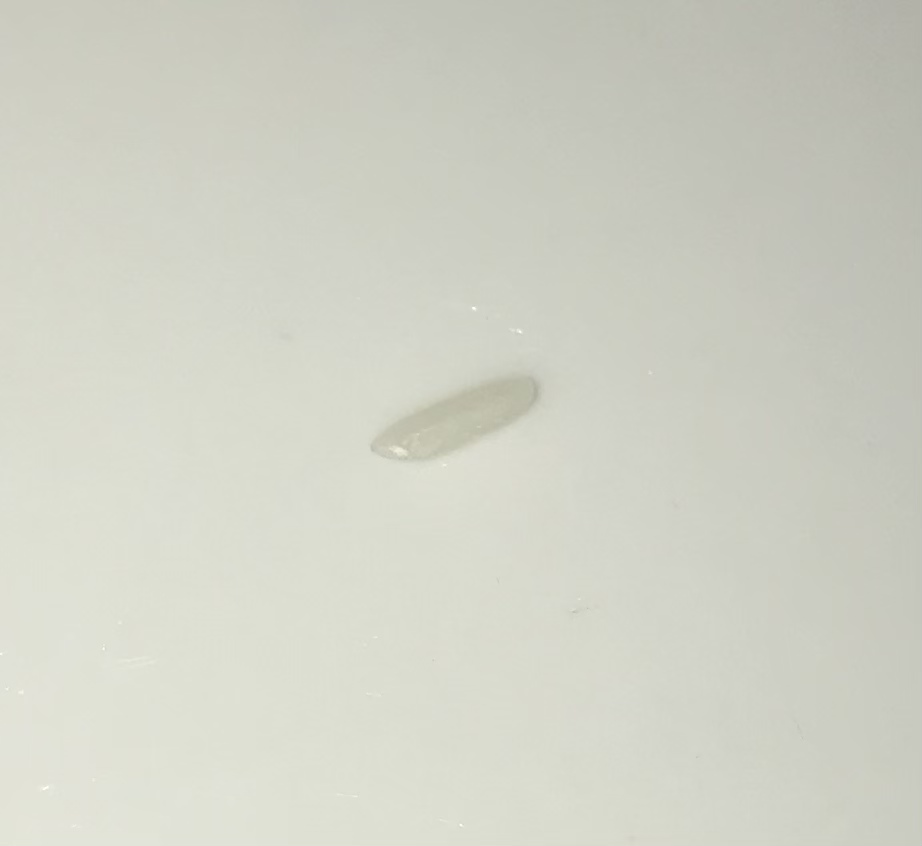Gao Thom Go Cong: (369, 369, 541, 488)
